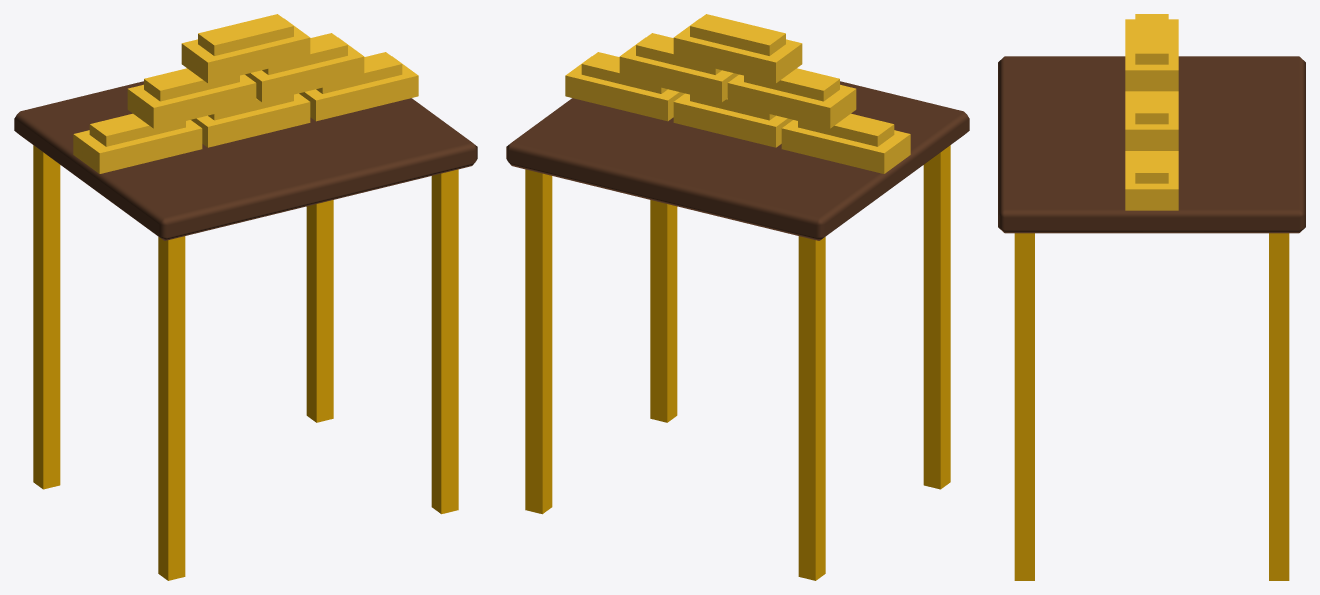
The model's file is station_processing_ausstattung_3_2.glb.
3 renders of one model, left to right at view 1: azimuth 30°, elevation 25°; view 2: azimuth 150°, elevation 25°; view 3: azimuth 270°, elevation 25°, orthographic.
Parts seen in each view (by area): view 1: station_processing_ausstattung_3_2; view 2: station_processing_ausstattung_3_2; view 3: station_processing_ausstattung_3_2.
Part boxes in pixels (x1,y1,x2,y2): station_processing_ausstattung_3_2: (14, 14, 477, 580); station_processing_ausstattung_3_2: (506, 14, 969, 580); station_processing_ausstattung_3_2: (998, 14, 1305, 580).
Bounding box in the file's own units: 0.56 × 0.783 × 0.46.
